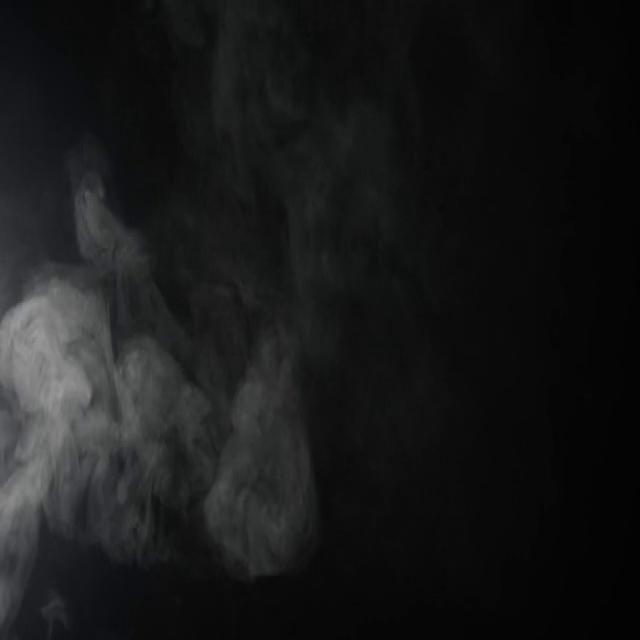smoke: (210, 375, 316, 565), (0, 276, 114, 446), (120, 340, 210, 490), (49, 423, 143, 528), (2, 449, 48, 608)
